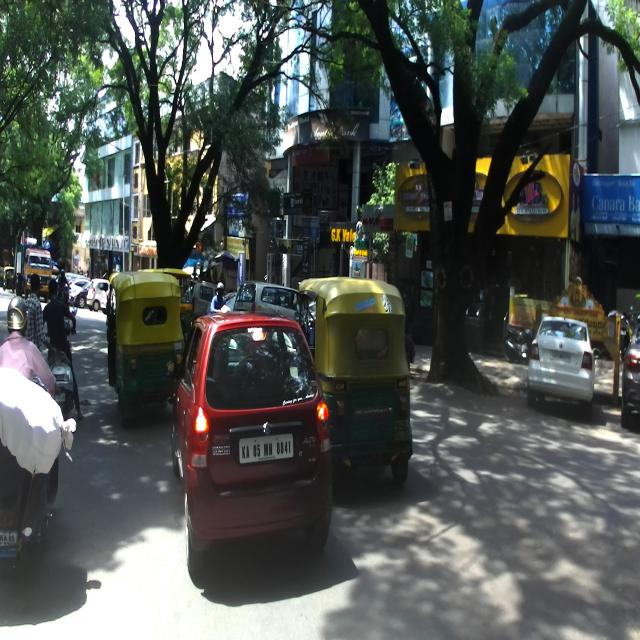auto ahead at: (325, 280, 415, 482), (105, 273, 180, 407)
car ahead at: (178, 314, 331, 558), (530, 312, 596, 408)
tree ahead at: (418, 129, 504, 401)
